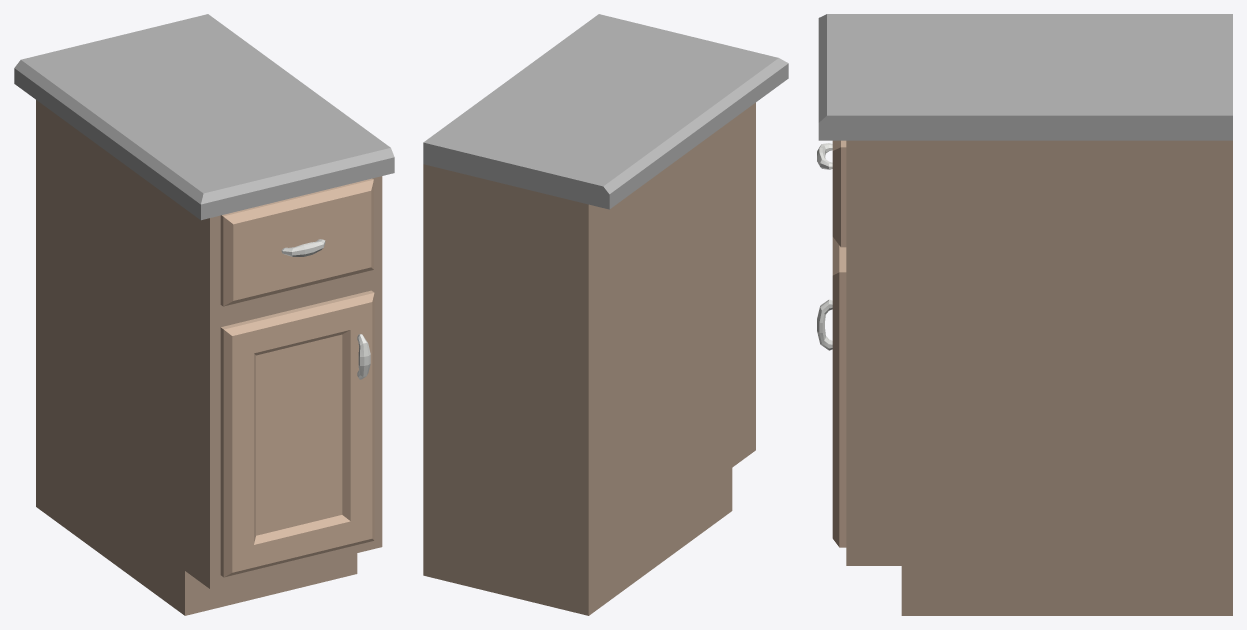
The model's file is Structure_Bathroom_Cabinet_End.fbx.
3 renders of one model, left to right at view 1: azimuth 30°, elevation 25°; view 2: azimuth 150°, elevation 25°; view 3: azimuth 270°, elevation 25°, orthographic. The views are drawn at different scales.
Visible parts, largest first — view 1: object4.016, object2.034, object1.060, object3.023; view 2: object4.016, object2.034; view 3: object4.016, object2.034, object1.060, object3.023.
Boxes of the visible parts, x1,y1,x2,y2 form: object4.016: (36, 100, 382, 615); object2.034: (14, 14, 394, 220); object1.060: (220, 290, 374, 577); object3.023: (220, 178, 373, 306); object4.016: (423, 102, 755, 615); object2.034: (423, 14, 788, 209); object4.016: (846, 140, 1232, 615); object2.034: (818, 14, 1232, 140); object1.060: (832, 237, 846, 547); object3.023: (832, 140, 846, 247).
Size of the model in its own units: 45 by 100 by 75.31.
